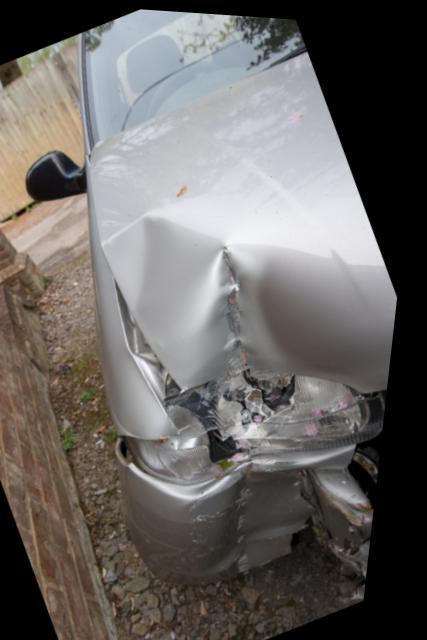dent: (110, 206, 377, 383), (215, 466, 302, 575)
lamp broken: (136, 365, 393, 480)
